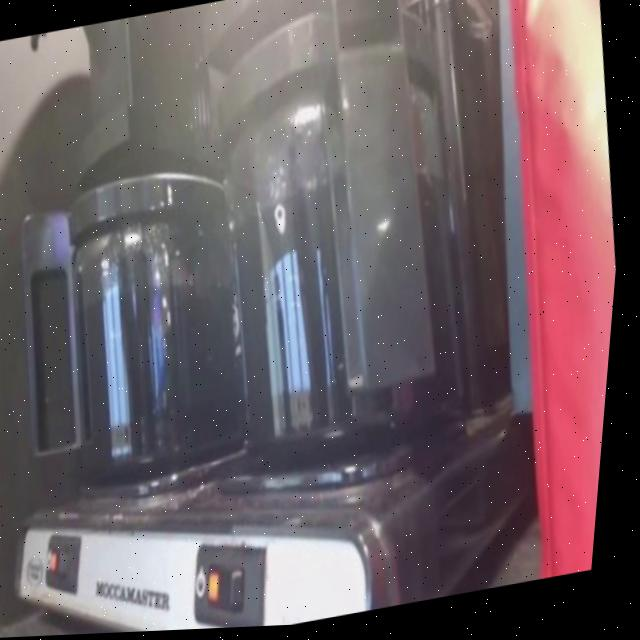coffee: (144, 0, 500, 500), (39, 143, 288, 497)
